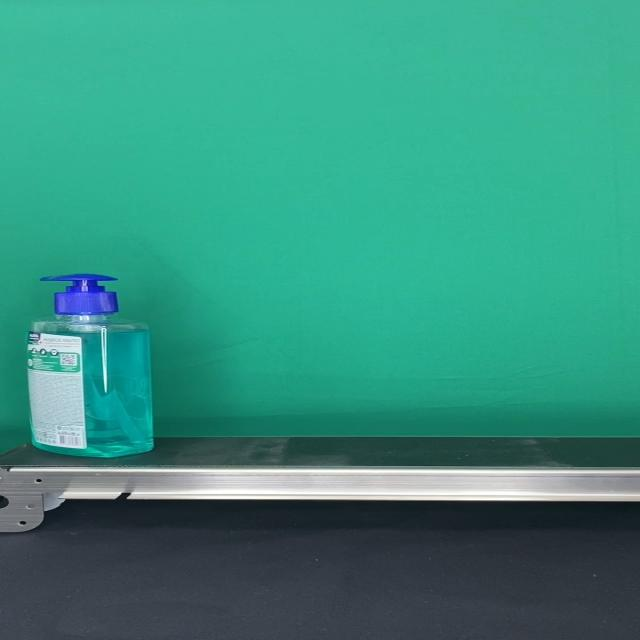Bottle: (23, 274, 155, 458)
Cap: (37, 273, 119, 315)
